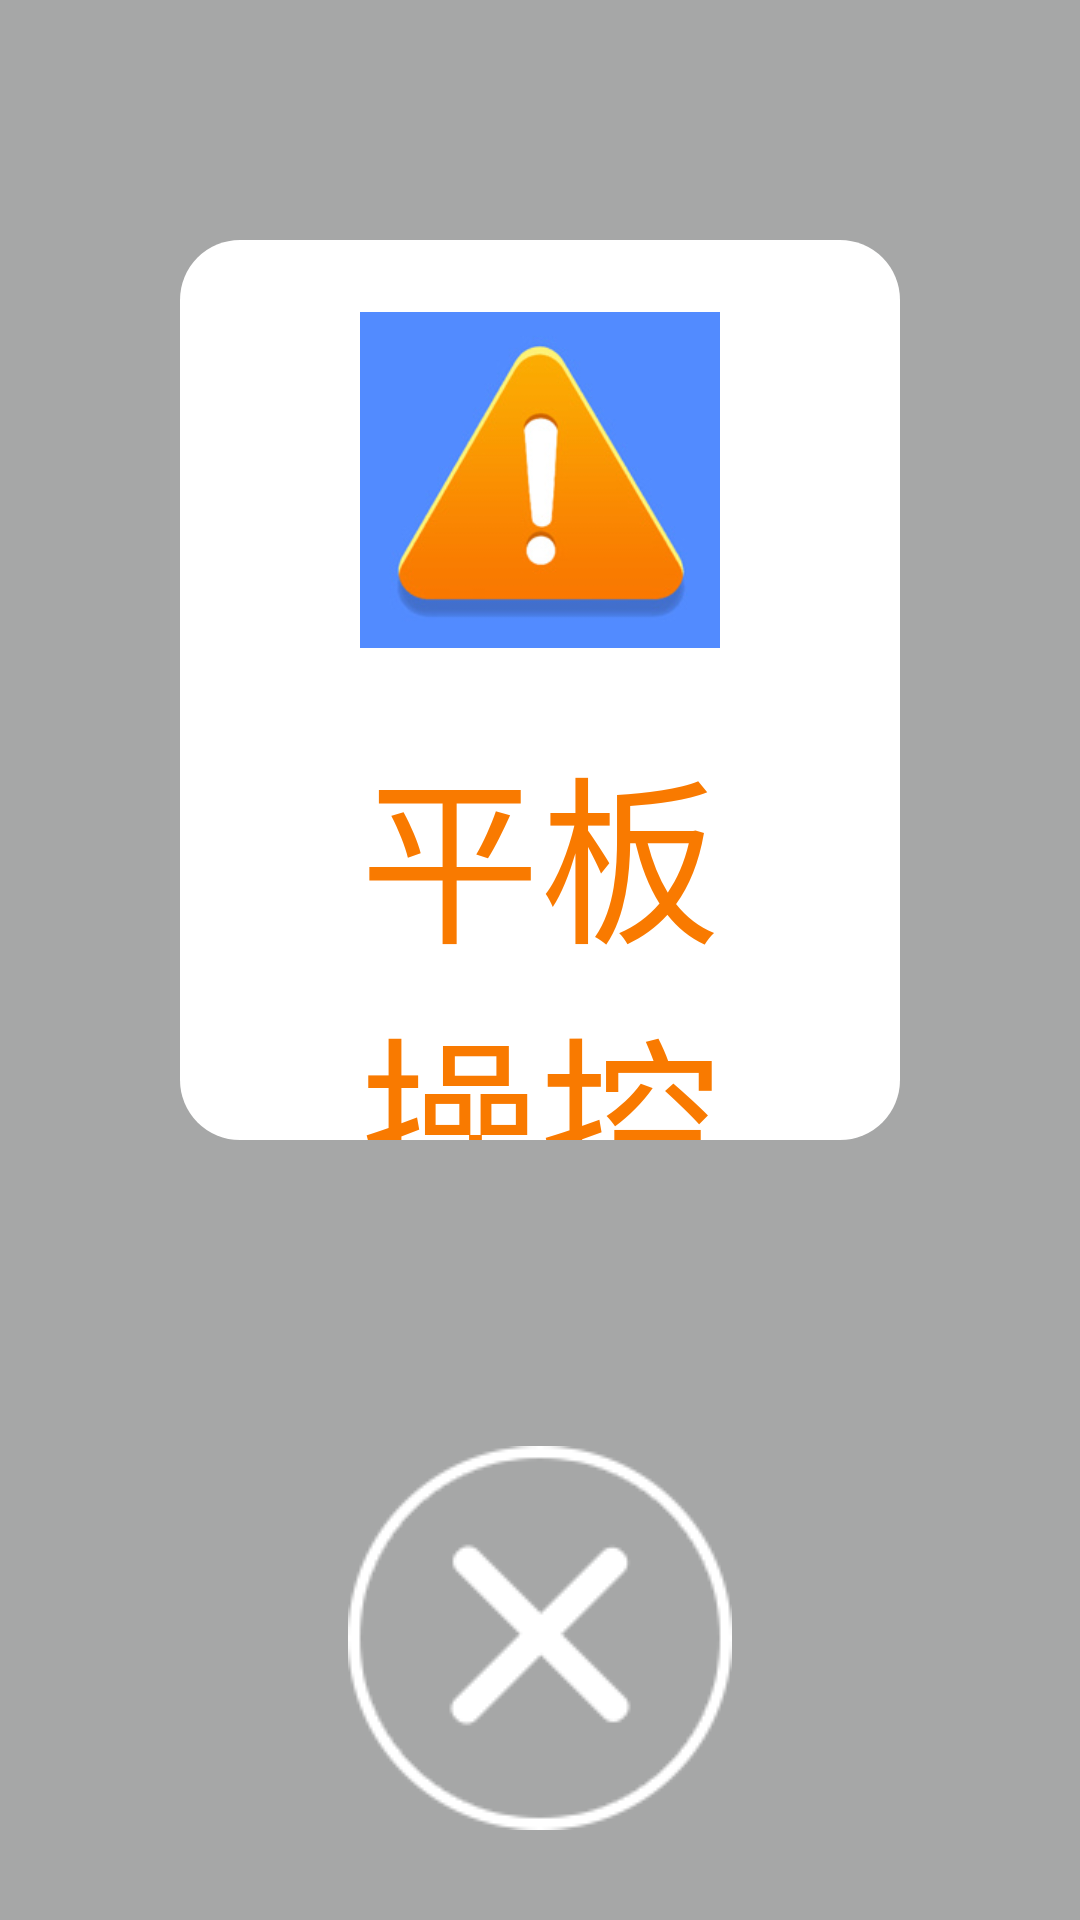

Named icons in this screenshot (1080x1920) and their centers, [x,y]:
notice seize: [540,480]
